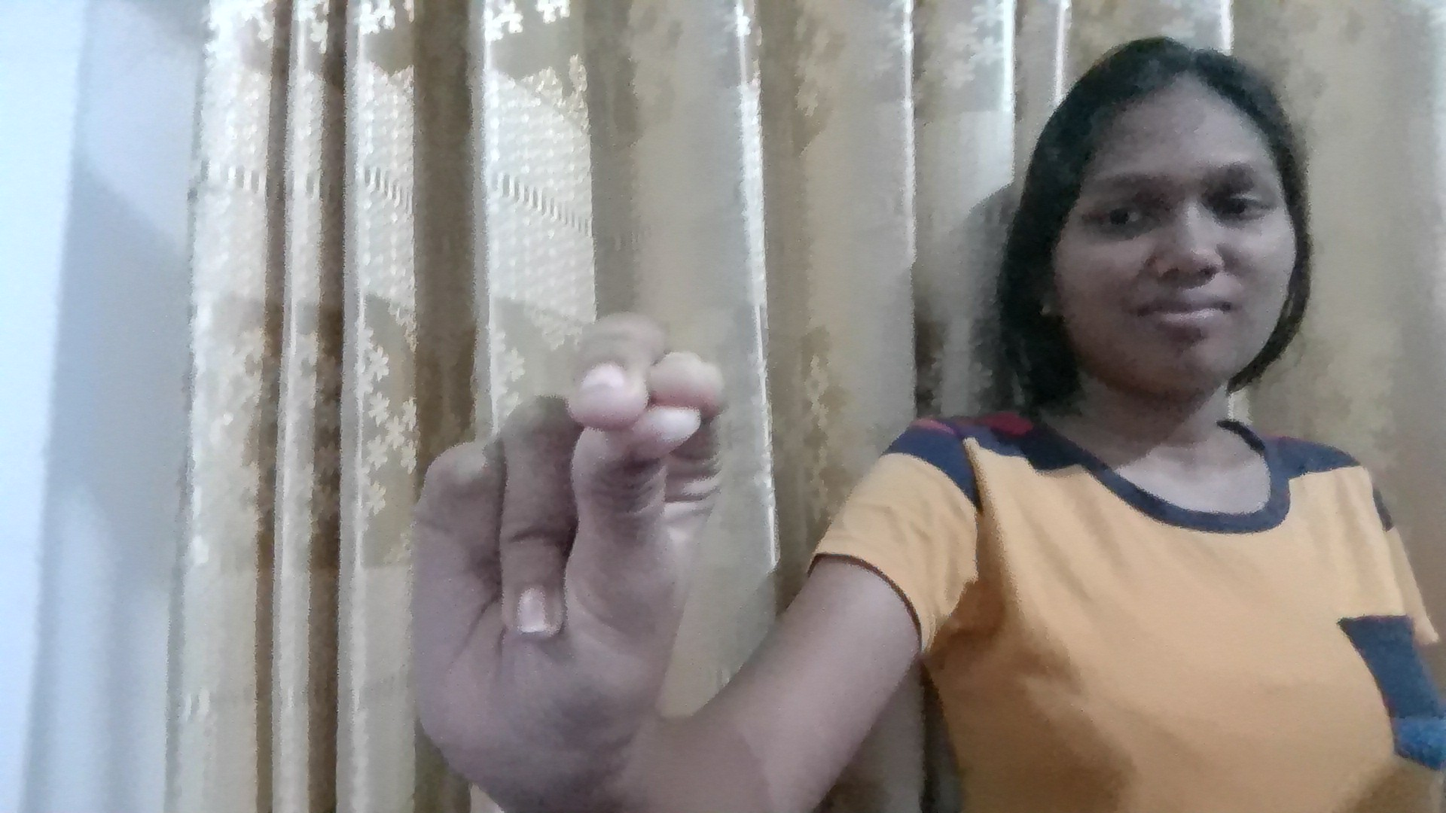No: (405, 234, 787, 770)
